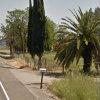Palm tree: (56, 8, 99, 81)
